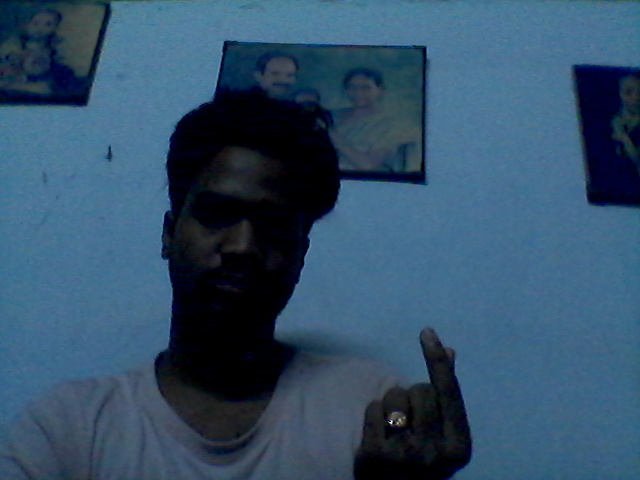Excuse Me: (348, 313, 484, 480)
